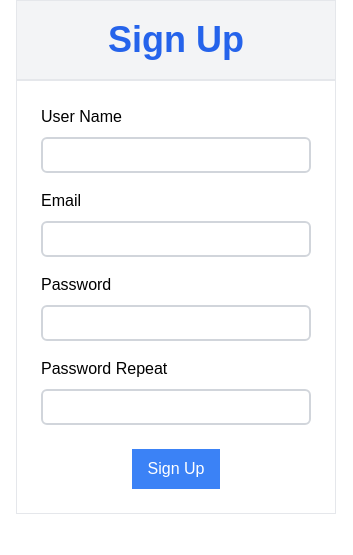
Sign Up Page › Interaction › display email is not allowed to be empty for email
Type "T3rl4lu@123" into the password field labelled "Password".
click(176, 323); type("T3rl4lu@123")  # box [41,305,311,341]
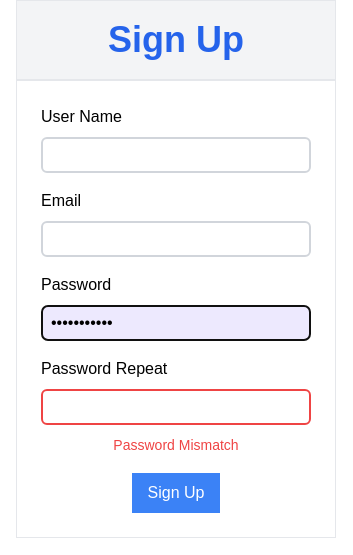
Type "T3rl4lu@123" into the password field labelled "Password Repeat".
click(176, 407); type("T3rl4lu@123")  # box [41,389,311,425]
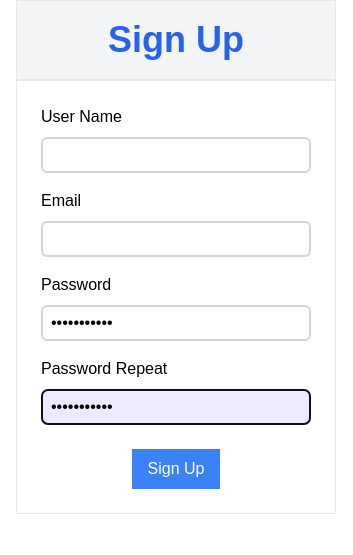
Click the button "Sign Up".
click(176, 469)  # box [132,449,220,489]
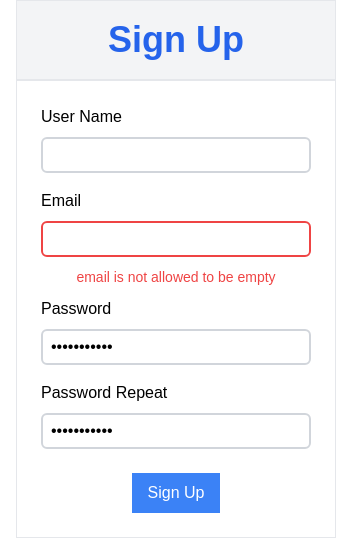
Result: the text "email is not allowed to be empty" is shown at [76,269,276,285]
